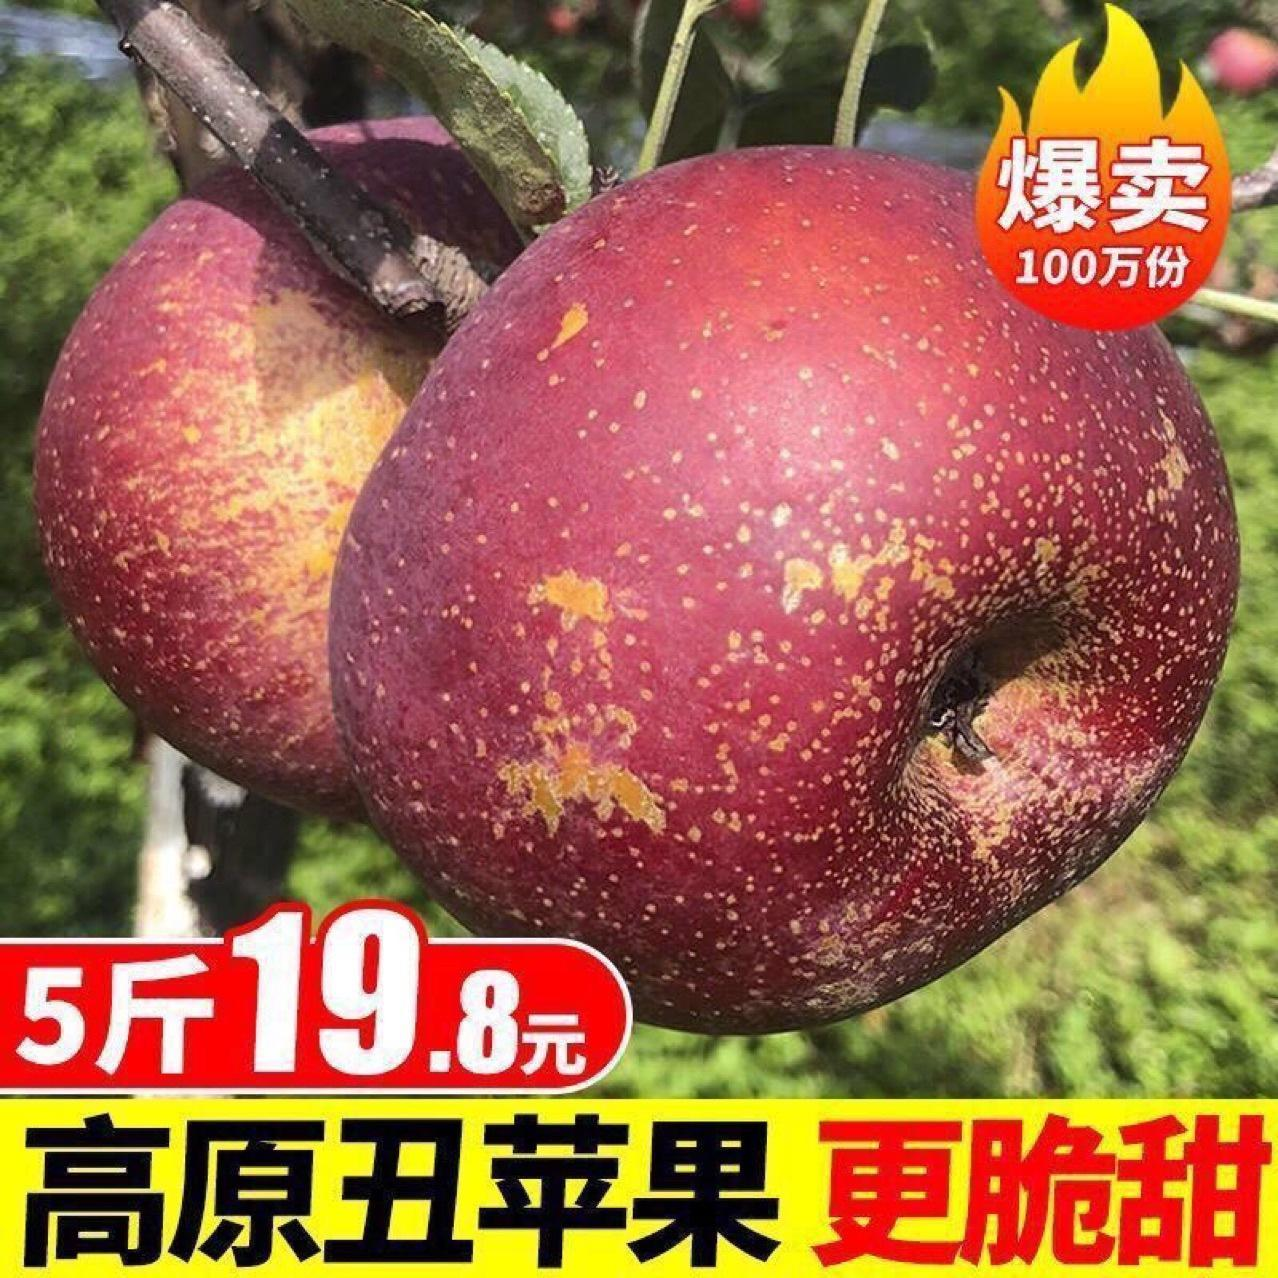apple: (319, 136, 1244, 1039), (34, 195, 440, 789)
